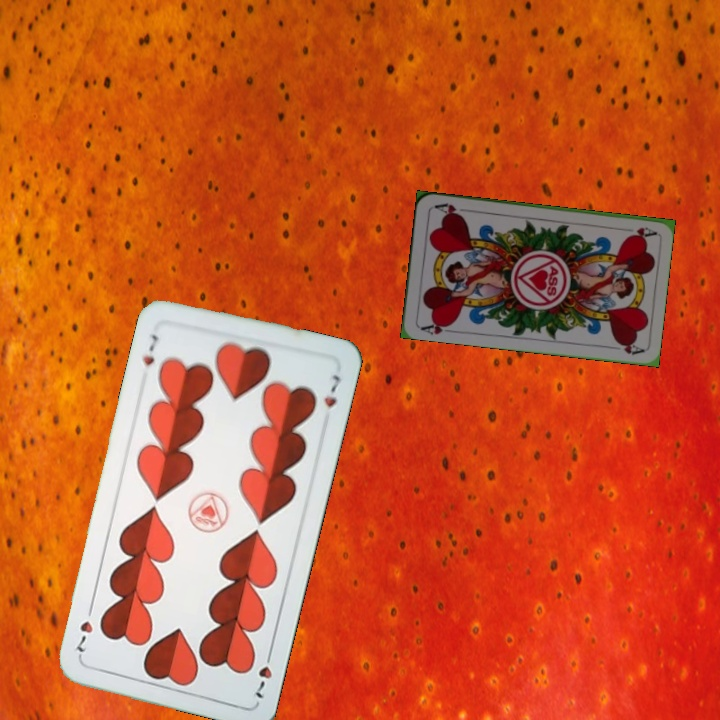H7: (251, 645, 275, 701), (138, 330, 162, 368)
HA: (416, 317, 457, 337), (625, 223, 658, 239)
